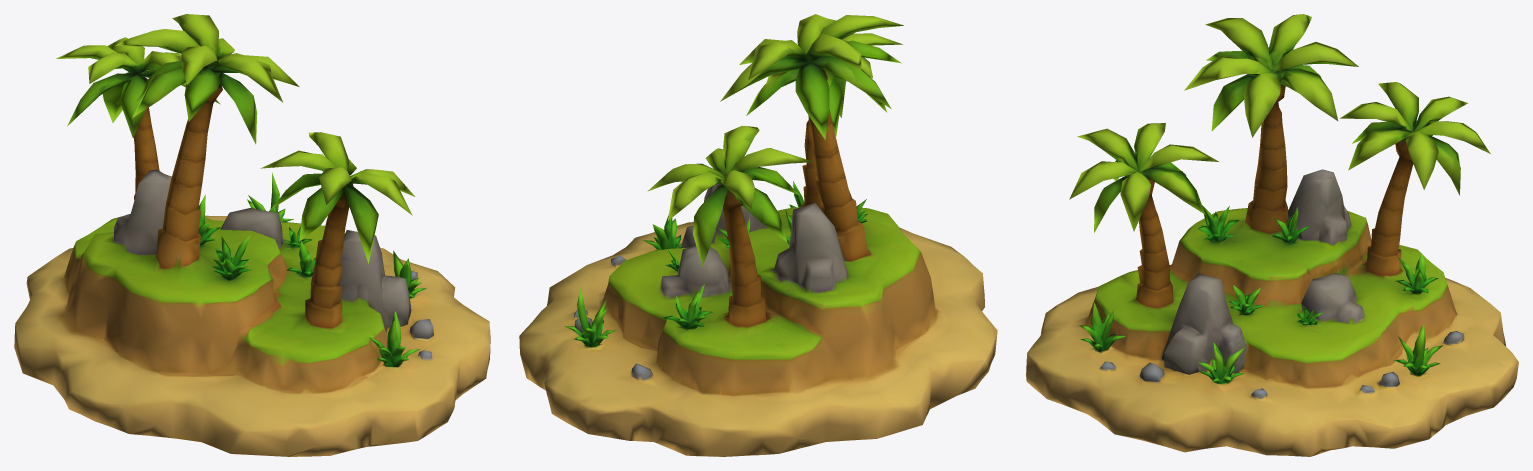
Rendered from island08.glb.
3 views of the same model, side by side, from view 1: azimuth 30°, elevation 25°; view 2: azimuth 150°, elevation 25°; view 3: azimuth 270°, elevation 25° (orthographic). The views are drawn at different scales.
Parts seen in each view (by area): view 1: tripo_node_401a1c41-61bc-4aac-8293-02761716e04a; view 2: tripo_node_401a1c41-61bc-4aac-8293-02761716e04a; view 3: tripo_node_401a1c41-61bc-4aac-8293-02761716e04a.
Boxes of the visible parts, x1,y1,x2,y2 form: tripo_node_401a1c41-61bc-4aac-8293-02761716e04a: (14, 14, 490, 456); tripo_node_401a1c41-61bc-4aac-8293-02761716e04a: (519, 14, 997, 456); tripo_node_401a1c41-61bc-4aac-8293-02761716e04a: (1026, 14, 1518, 456).
Bounding box in the file's own units: 0.8503 × 0.6921 × 0.9804.
Materials: 1 (1 with a texture image).
